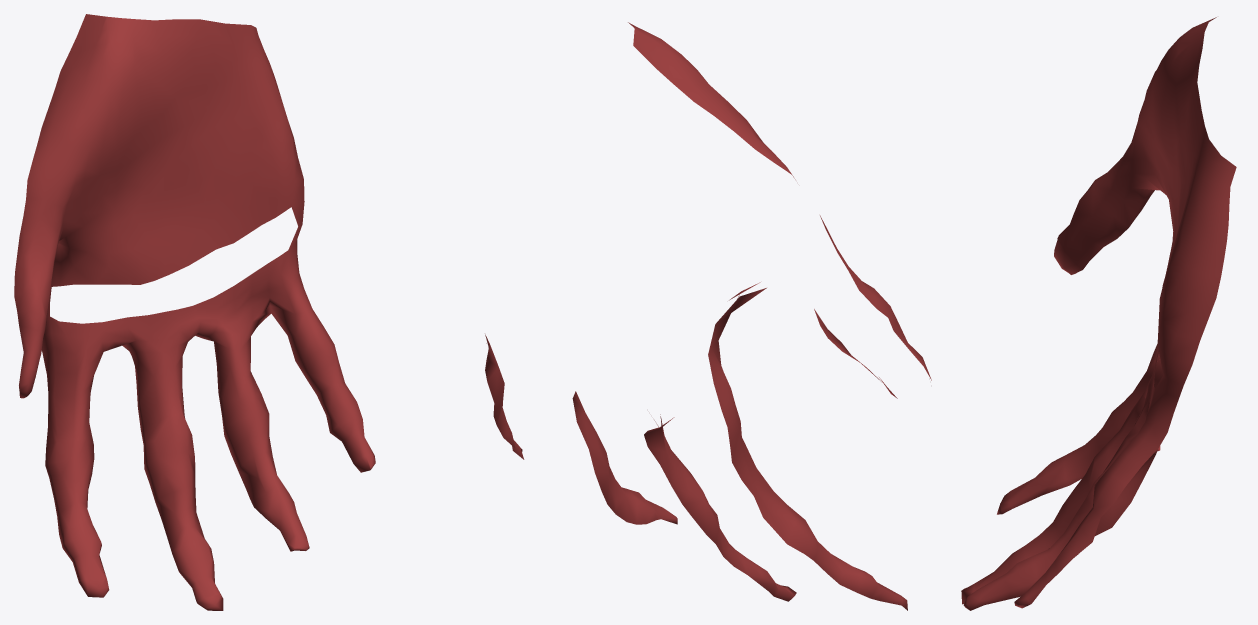
Rendered from palmar-aponeurosis-r.glb.
The picture shows the model from 3 angles, left to right: view 1: azimuth 30°, elevation 25°; view 2: azimuth 150°, elevation 25°; view 3: azimuth 270°, elevation 25°; orthographic projection. The views are drawn at different scales.
Visible parts, largest first — view 1: Palmar aponeurosis.r; view 2: Palmar aponeurosis.r; view 3: Palmar aponeurosis.r.
Boxes of the visible parts, x1,y1,x2,y2 form: Palmar aponeurosis.r: [14, 14, 375, 610]; Palmar aponeurosis.r: [485, 22, 931, 610]; Palmar aponeurosis.r: [961, 17, 1236, 610].
Bounding box in the file's own units: 0.1093 × 0.1561 × 0.0681.
